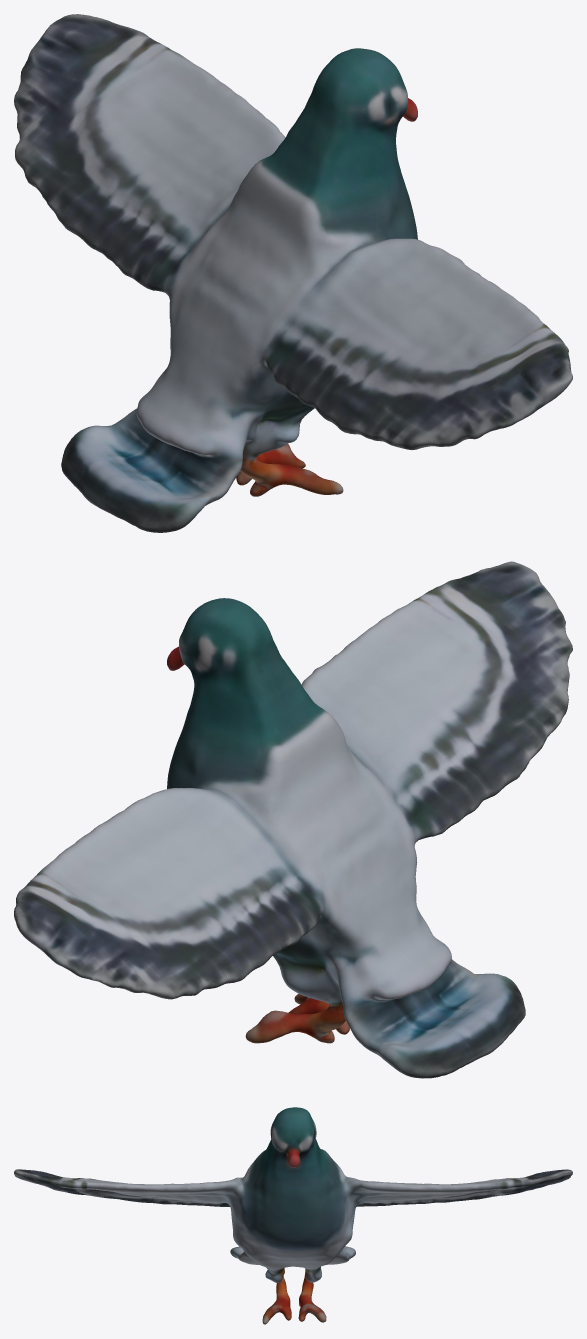
Rendered from a469a6b3498c_pidgeon_flying__3d_.fbx.
3 renders of one model, top to bottom at view 1: azimuth 30°, elevation 25°; view 2: azimuth 150°, elevation 25°; view 3: azimuth 270°, elevation 25°, orthographic. The views are drawn at different scales.
Visible parts, largest first — view 1: high_poly; view 2: high_poly; view 3: high_poly.
Boxes of the visible parts, x1=… form: high_poly: x1=14, y1=14, x2=572, y2=532; high_poly: x1=14, y1=561, x2=572, y2=1078; high_poly: x1=14, y1=1107, x2=572, y2=1324.
Bounding box in the file's own units: 37.53 × 44.93 × 100.
